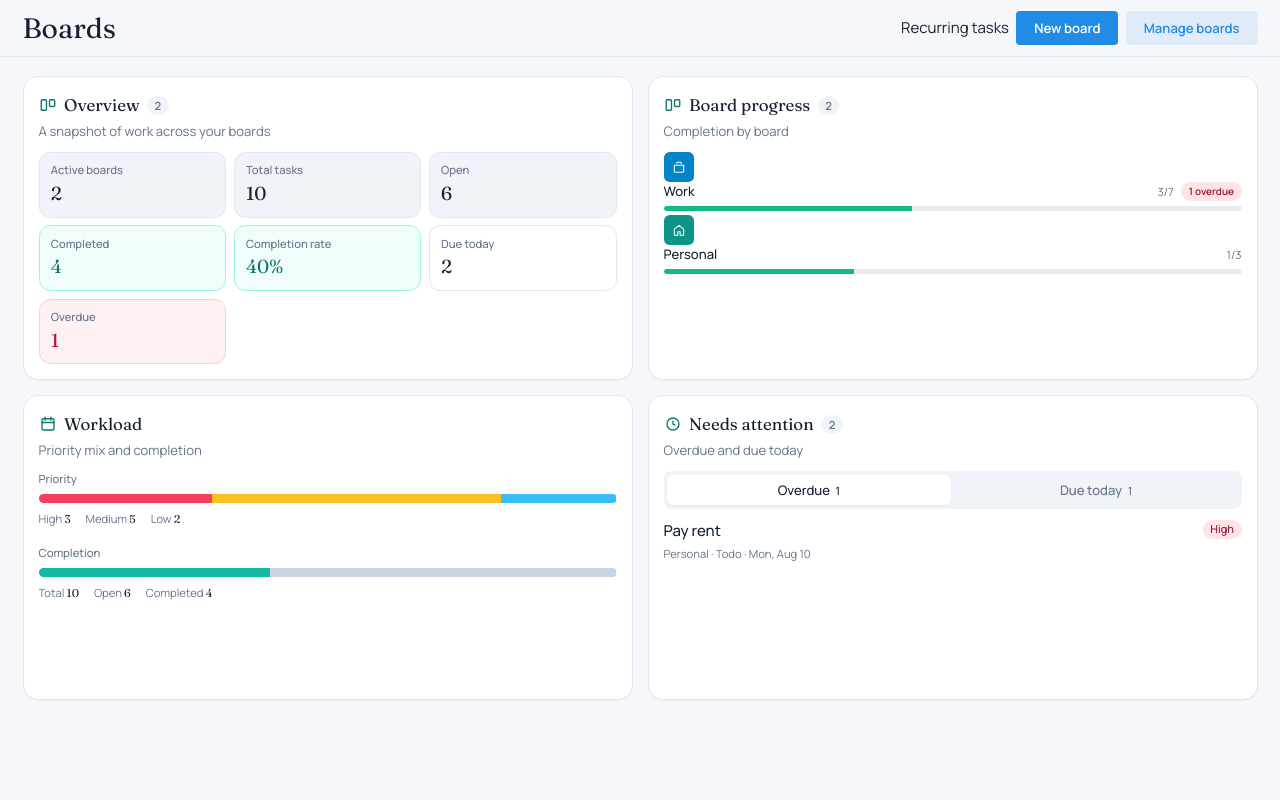
Boards dashboard › switches the attention list between Overdue and Due today
Click the tab "Due today1".
click(1096, 490)  # box x1=954 y1=475 x2=1238 y2=505
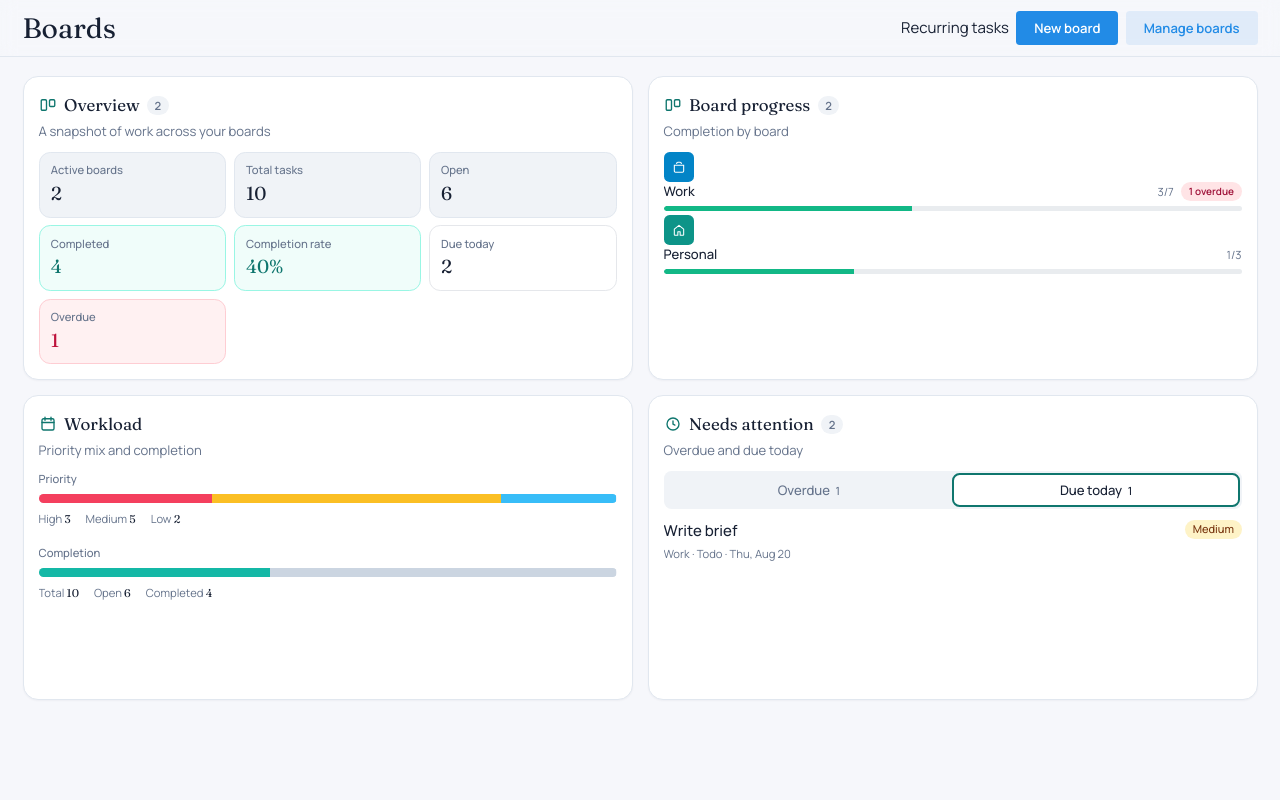
expect the text "Write brief" is shown: met, box x1=664 y1=520 x2=737 y2=541
expect the link "Pay rent" is gone: met
